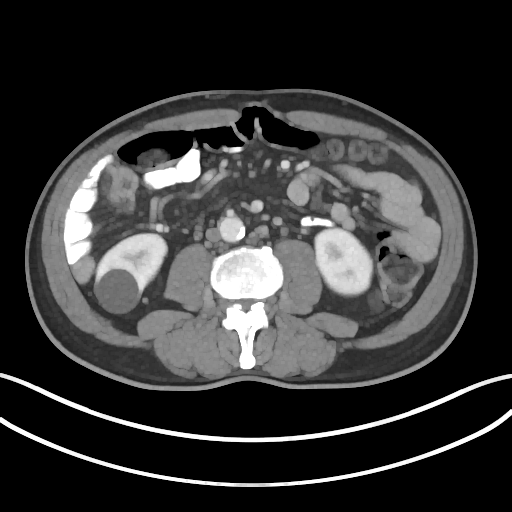Lesion: (96, 269, 141, 317)
